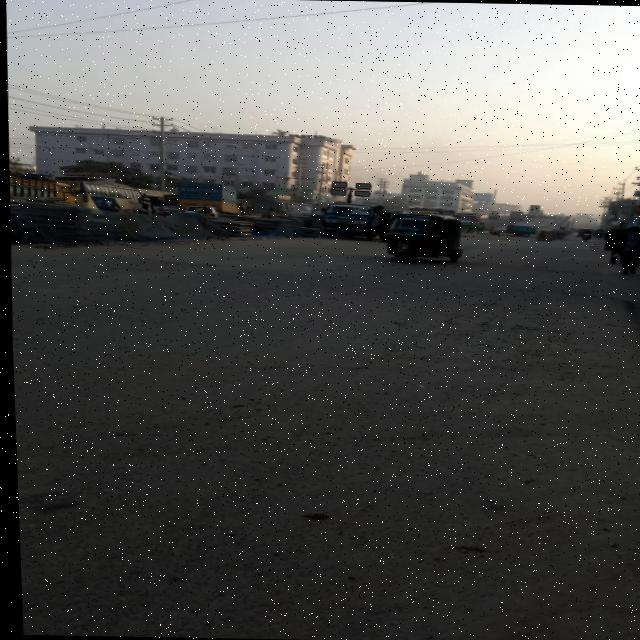cng: (375, 207, 475, 274)
